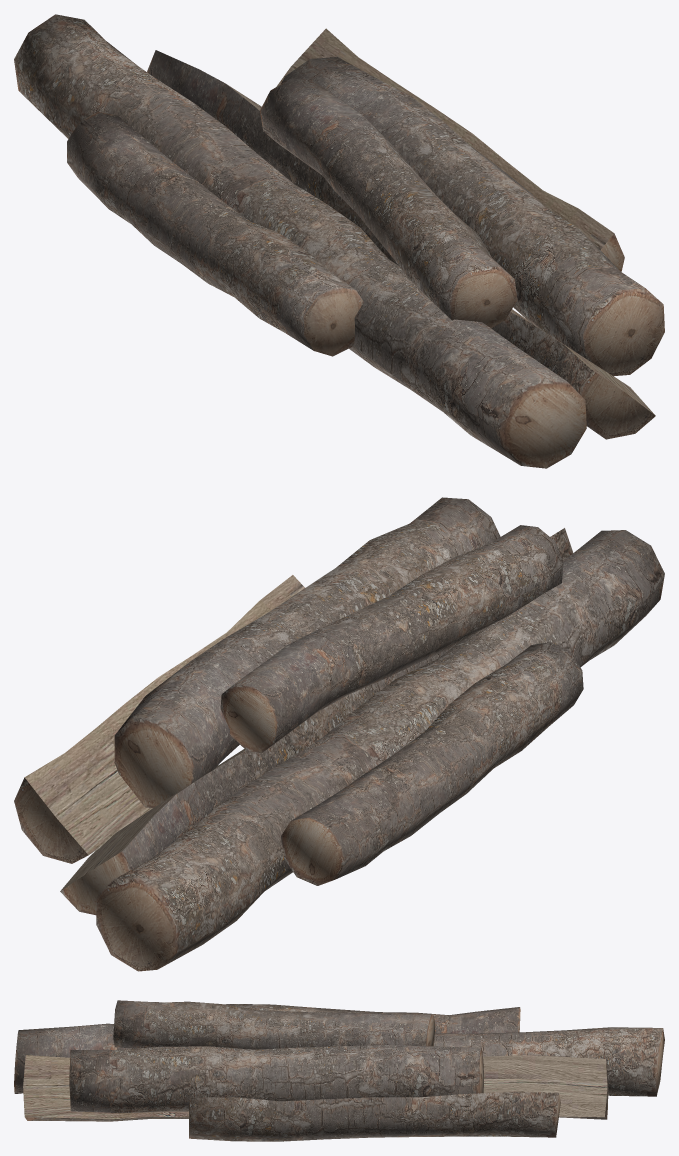
File: SM_FirewoodBundleB.FBX
3 renders of one model, top to bottom at view 1: azimuth 30°, elevation 25°; view 2: azimuth 150°, elevation 25°; view 3: azimuth 270°, elevation 25°, orthographic. The views are drawn at different scales.
Parts seen in each view (by area): view 1: SM_FirewoodBundleB; view 2: SM_FirewoodBundleB; view 3: SM_FirewoodBundleB.
Boxes of the visible parts, box(x1,y1,x2,y2) form: SM_FirewoodBundleB: box(14, 14, 664, 468); SM_FirewoodBundleB: box(14, 497, 664, 971); SM_FirewoodBundleB: box(14, 1000, 664, 1141).
Bounding box in the file's own units: 22.5 × 10.46 × 61.11.
